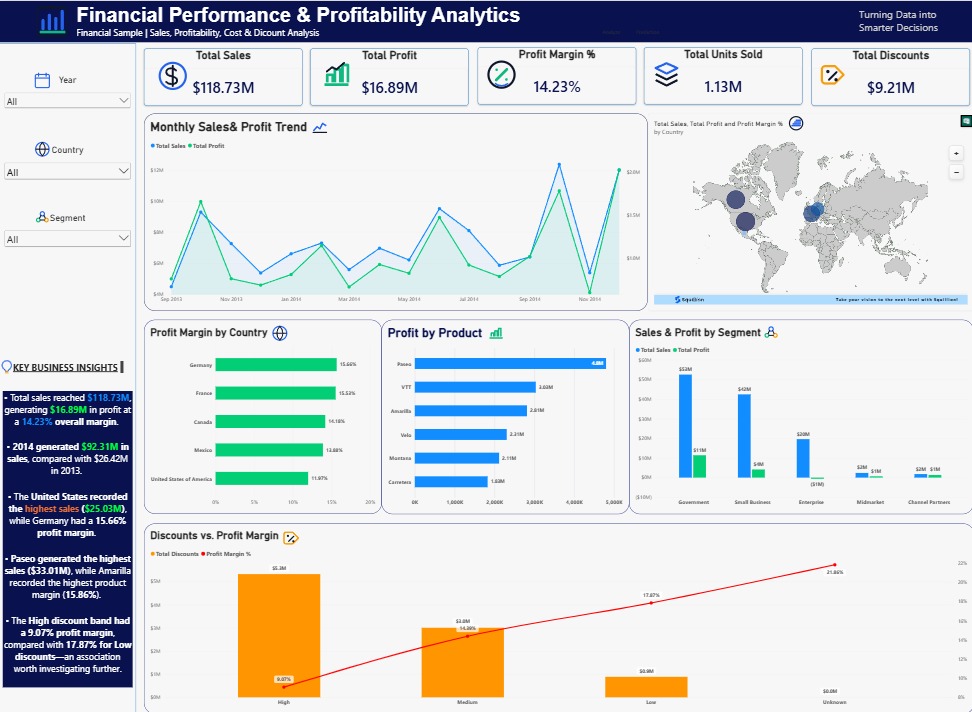

What the dashboard file says about the page in this screenshot:
{"tool":"powerbi","page":{"name":"Page 1","canvas":[2600,1900],"ordinal":0},"visuals":[{"type":"shape","box":[0,0,2600,110.1],"z":0},{"type":"cardVisual","title":"Total Sales","fields":{"Data":["financial_performance_cleaned.Total Sales"]},"box":[385,125.2,422.5,152.5],"z":1},{"type":"cardVisual","title":"Total Profit","fields":{"Data":["financial_performance_cleaned.Total Profit"]},"box":[830.4,127.5,422,152],"z":2},{"type":"cardVisual","title":"Profit Margin %","fields":{"Data":["financial_performance_cleaned.Profit Margin %"]},"box":[1275.2,122.5,422,152.9],"z":3},{"type":"clusteredBarChart","title":"Profit by Product","fields":{"Category":["financial_performance_cleaned.Product"],"Y":["Sum(financial_performance_cleaned.Profit)"]},"box":[1019.9,848.3,660.5,518.1],"z":4},{"type":"textbox","box":[207.1,7.4,1200.8,120.8],"z":5},{"type":"actionButton","title":"Analyze","box":[1584,68,100,28],"z":6},{"type":"actionButton","title":"Analyze","box":[1679,68,100,28],"z":7},{"type":"textbox","box":[2294,18,306,82],"z":9},{"type":"shape","box":[0,113.3,365.9,1787.3],"z":10},{"type":"clusteredBarChart","title":"Profit Margin by Country","fields":{"Category":["financial_performance_cleaned.Country"],"Y":["financial_performance_cleaned.Profit Margin %"]},"box":[386.5,849.4,634.6,517.7],"z":32},{"type":"cardVisual","title":"Total Units Sold","fields":{"Data":["financial_performance_cleaned.Total Units Sold"]},"box":[1720.1,123.8,422,152.9],"z":34},{"type":"cardVisual","title":"Total Discounts","fields":{"Data":["financial_performance_cleaned.Total Discounts"]},"box":[2165,126.2,422,152.9],"z":35},{"type":"clusteredColumnChart","title":"Sales & Profit by Segment","fields":{"Category":["financial_performance_cleaned.Segment"],"Y":["financial_performance_cleaned.Total Sales","financial_performance_cleaned.Total Profit"]},"box":[1680.5,848.3,919.6,518.1],"z":36},{"type":"lineClusteredColumnComboChart","title":"Discounts vs. Profit Margin","fields":{"Category":["financial_performance_cleaned.Discount Band"],"Y":["financial_performance_cleaned.Total Discounts"],"Y2":["financial_performance_cleaned.Profit Margin %"]},"box":[385.3,1392.3,2214.7,508.4],"z":37},{"type":"slicer","title":"Year","fields":{"Values":["financial_performance_cleaned.Year"]},"box":[10,196.7,345.9,150.3],"z":38},{"type":"slicer","title":"Country","fields":{"Values":["financial_performance_cleaned.Country"]},"box":[10,383.3,346.7,106.7],"z":39},{"type":"slicer","title":"Segment","fields":{"Values":["financial_performance_cleaned.Segment"]},"box":[10,563.3,346.7,123.3],"z":40},{"type":"lineChart","title":"Monthly Sales& Profit Trend","fields":{"Category":["financial_performance_cleaned.Date"],"Y":["financial_performance_cleaned.Total Sales"],"Y2":["financial_performance_cleaned.Total Profit"]},"box":[386.7,300,1343.3,526.7],"z":41},{"type":"MapBySquillion","fields":{"category":["financial_performance_cleaned.Country"],"bubble":["financial_performance_cleaned.Total Sales"]},"box":[1730,300,870,526.7],"z":42},{"type":"image","box":[100,0,82.5,110],"z":43},{"type":"image","box":[422.5,152.5,80,92.5],"z":44},{"type":"image","box":[860,152.5,80,92.5],"z":45},{"type":"image","box":[1300,150,80,92.5],"z":46},{"type":"image","box":[1740,150,80,92.5],"z":47},{"type":"image","box":[2182.5,152.5,80,92.5],"z":48},{"type":"image","box":[722.9,848.6,51.4,71.4],"z":49},{"type":"image","box":[830,300,51.4,71.4],"z":50},{"type":"image","box":[1298.6,848.6,51.4,71.4],"z":52},{"type":"image","box":[2100,288.6,51.4,71.4],"z":53},{"type":"image","box":[2032.9,848.6,51.4,71.4],"z":57},{"type":"image","box":[748.6,1402.9,58.6,61.4],"z":58},{"type":"image","box":[90,186.2,51.2,50],"z":59},{"type":"image","box":[90,371.2,51.2,50],"z":60},{"type":"image","box":[90,553.8,51.2,50],"z":61},{"type":"textbox","box":[10,1038.3,346.7,790],"z":62},{"type":"textbox","box":[36.7,960,295,40],"z":63},{"type":"image","box":[0,950,41.7,51.7],"z":64}]}

Visuals, with their boxes in screenshot pixels (x1, y1, x2, y2), scaled from the page's 2600x1900 canvas onto the 972x712 screenshot:
shape: [0,0,971,41]
"Total Sales" cardVisual: [144,47,302,104]
"Total Profit" cardVisual: [310,48,468,105]
"Profit Margin %" cardVisual: [477,46,634,103]
"Profit by Product" clusteredBarChart: [381,318,628,512]
textbox: [77,3,526,48]
"Analyze" actionButton: [592,25,630,36]
"Analyze" actionButton: [628,25,665,36]
textbox: [858,7,971,37]
shape: [0,42,137,711]
"Profit Margin by Country" clusteredBarChart: [144,318,382,512]
"Total Units Sold" cardVisual: [643,46,801,104]
"Total Discounts" cardVisual: [809,47,967,105]
"Sales & Profit by Segment" clusteredColumnChart: [628,318,971,512]
"Discounts vs. Profit Margin" lineClusteredColumnComboChart: [144,522,971,711]
"Year" slicer: [4,74,133,130]
"Country" slicer: [4,144,133,184]
"Segment" slicer: [4,211,133,257]
"Monthly Sales& Profit Trend" lineChart: [145,112,647,310]
MapBySquillion - financial_performance_cleaned.Country x financial_performance_cleaned.Total Sales: [647,112,971,310]
image: [37,0,68,41]
image: [158,57,188,92]
image: [322,57,351,92]
image: [486,56,516,91]
image: [650,56,680,91]
image: [816,57,846,92]
image: [270,318,289,345]
image: [310,112,330,139]
image: [485,318,505,345]
image: [785,108,804,135]
image: [760,318,779,345]
image: [280,526,302,549]
image: [34,70,53,89]
image: [34,139,53,158]
image: [34,208,53,226]
textbox: [4,389,133,685]
textbox: [14,360,124,375]
image: [0,356,16,375]
